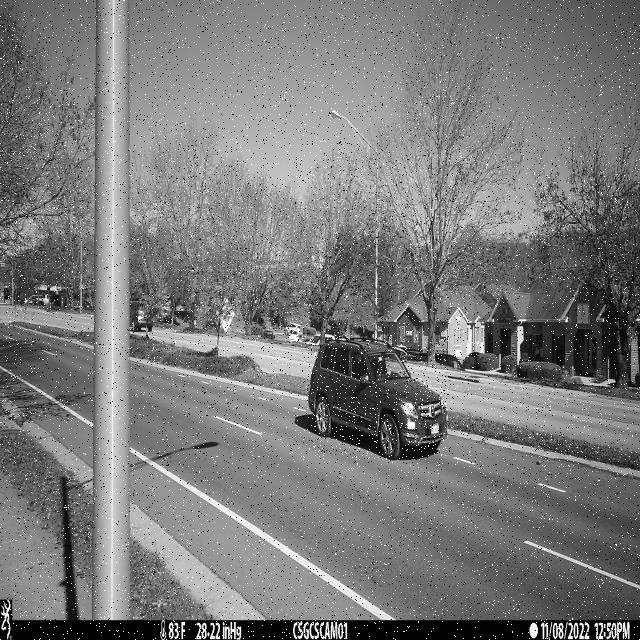SUV: (308, 337, 448, 460)
